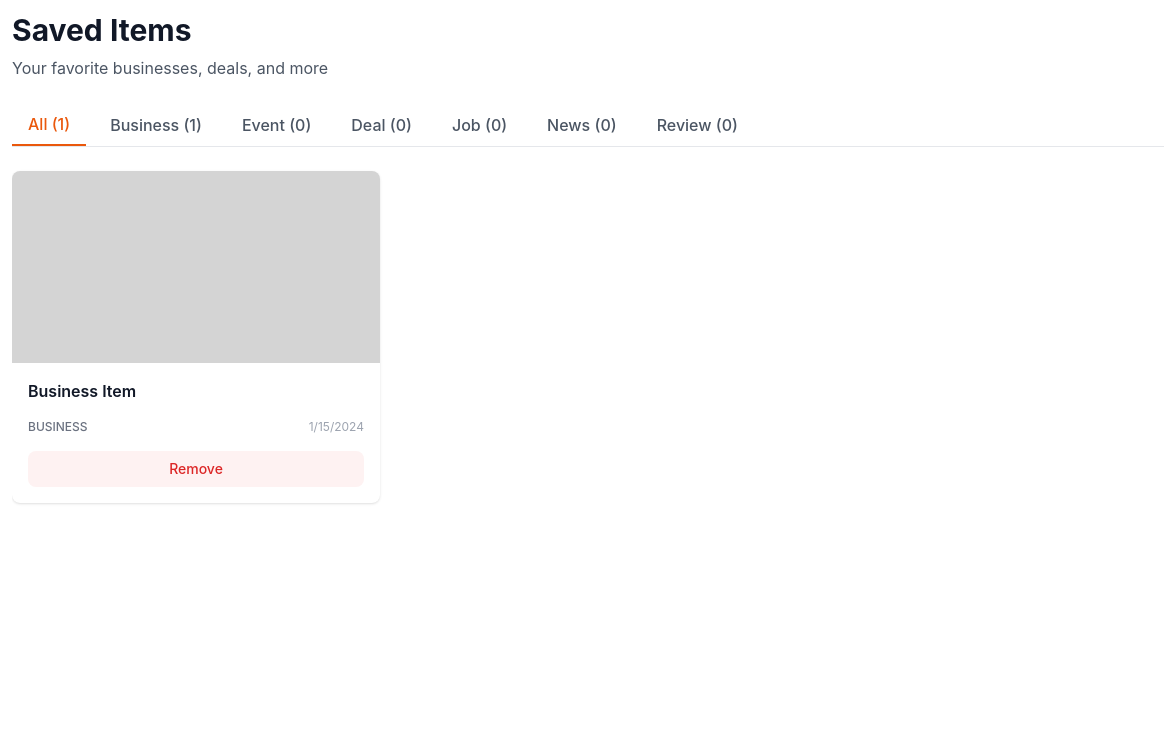
Saved Items Page › should show removing state on button during removal
Expected: the heading "Business Item" is shown, [28,381,136,401]
Click the button "Remove" at (196,469), box [28,451,364,487]
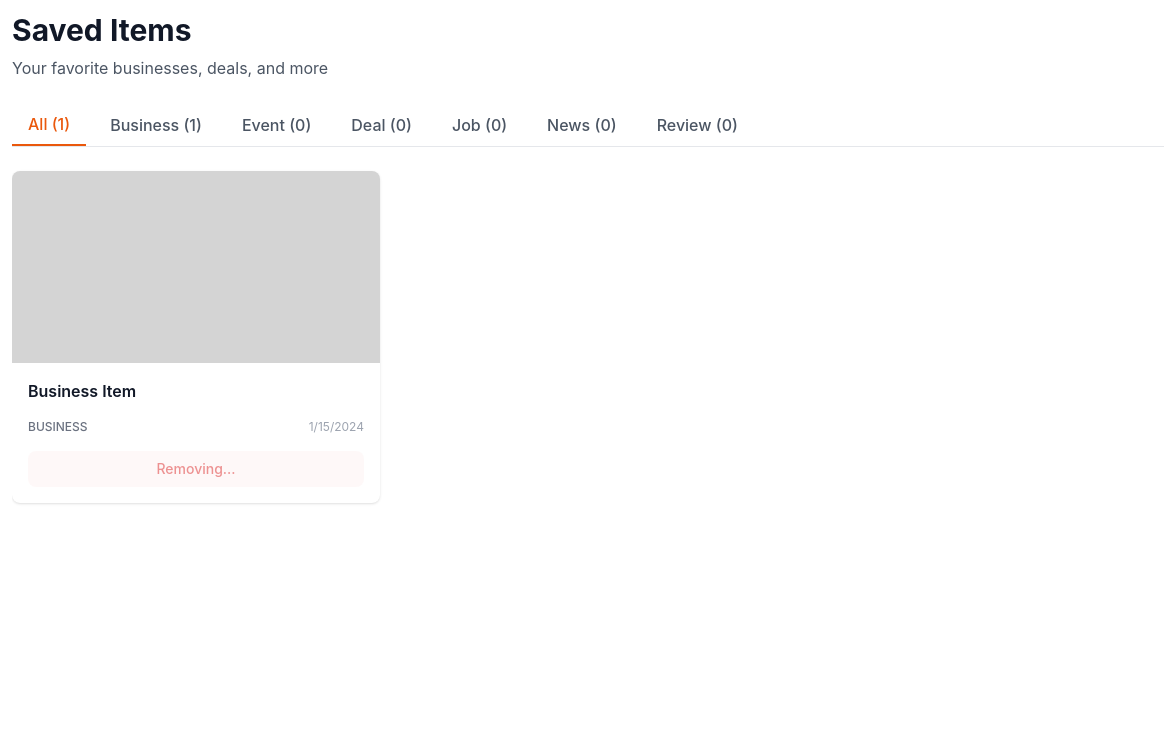
Now the button "Removing..." is shown, box [28,451,364,487]
